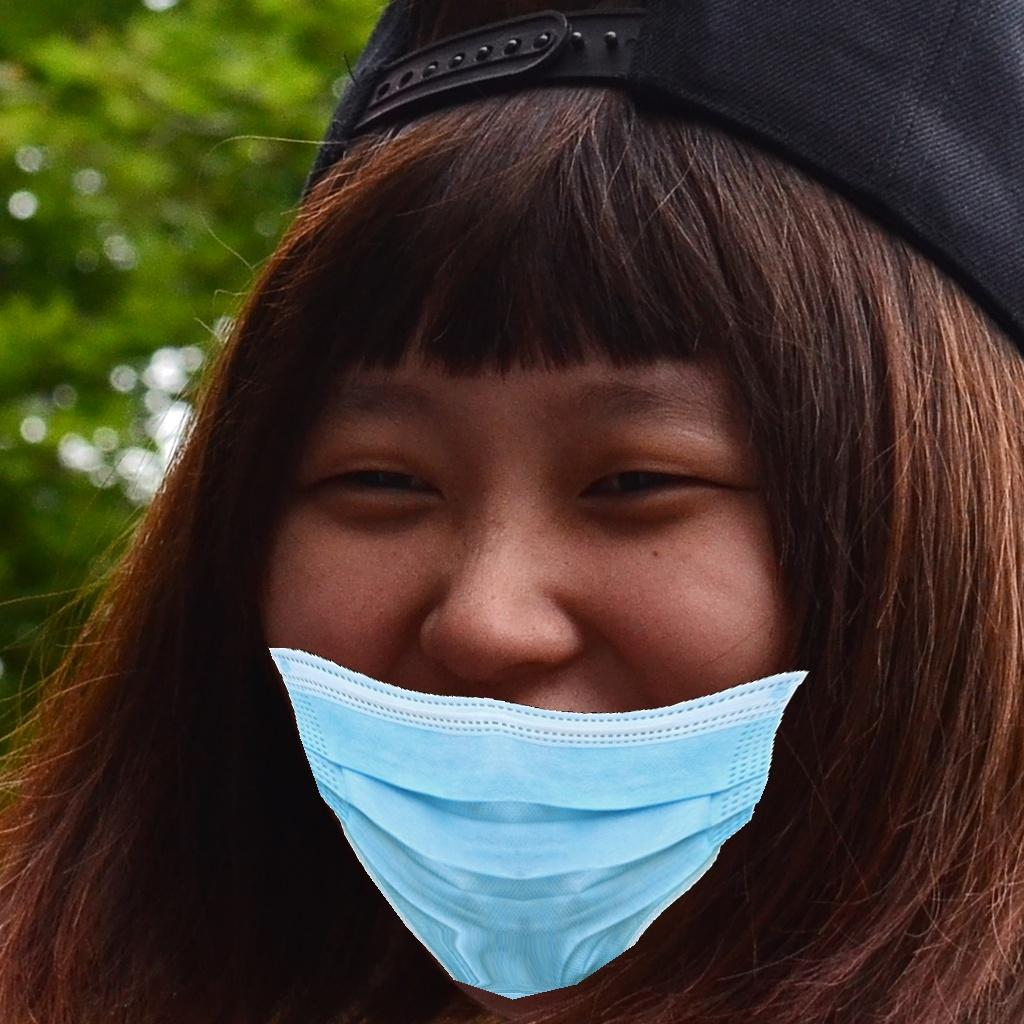Máscara Incorreta: (244, 260, 788, 981)
